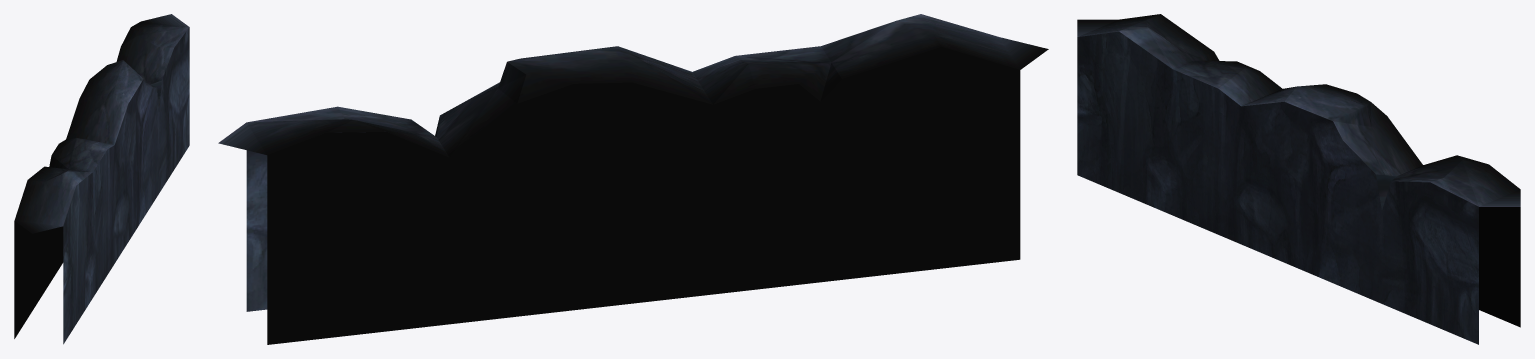
File: mine_broken_diagonal_01.fbx
3 renders of one model, left to right at view 1: azimuth 30°, elevation 25°; view 2: azimuth 150°, elevation 25°; view 3: azimuth 270°, elevation 25°, orthographic. The views are drawn at different scales.
Parts seen in each view (by area): view 1: obj2.008; view 2: obj2.008; view 3: obj2.008.
Part boxes in pixels (x1,y1,x2,y2): obj2.008: [14, 14, 189, 344]; obj2.008: [218, 14, 1048, 344]; obj2.008: [1077, 14, 1520, 344].
Size of the model in its own units: 4 by 1.73 by 4.
